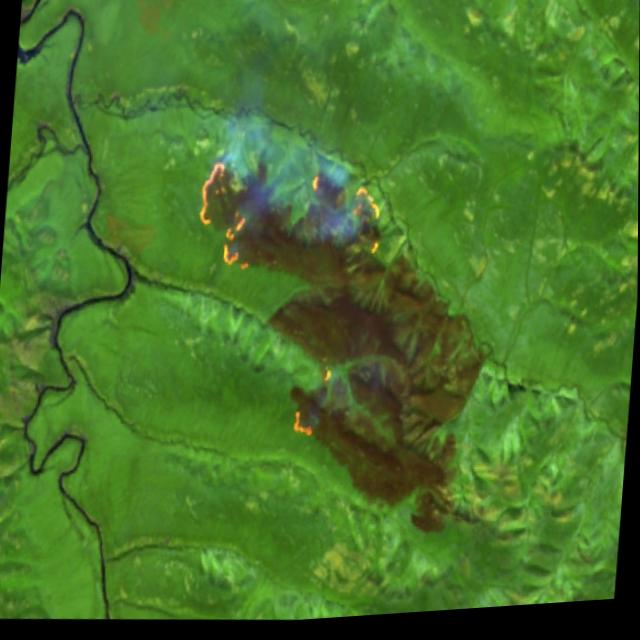fire: (191, 147, 390, 289), (289, 362, 336, 445)
